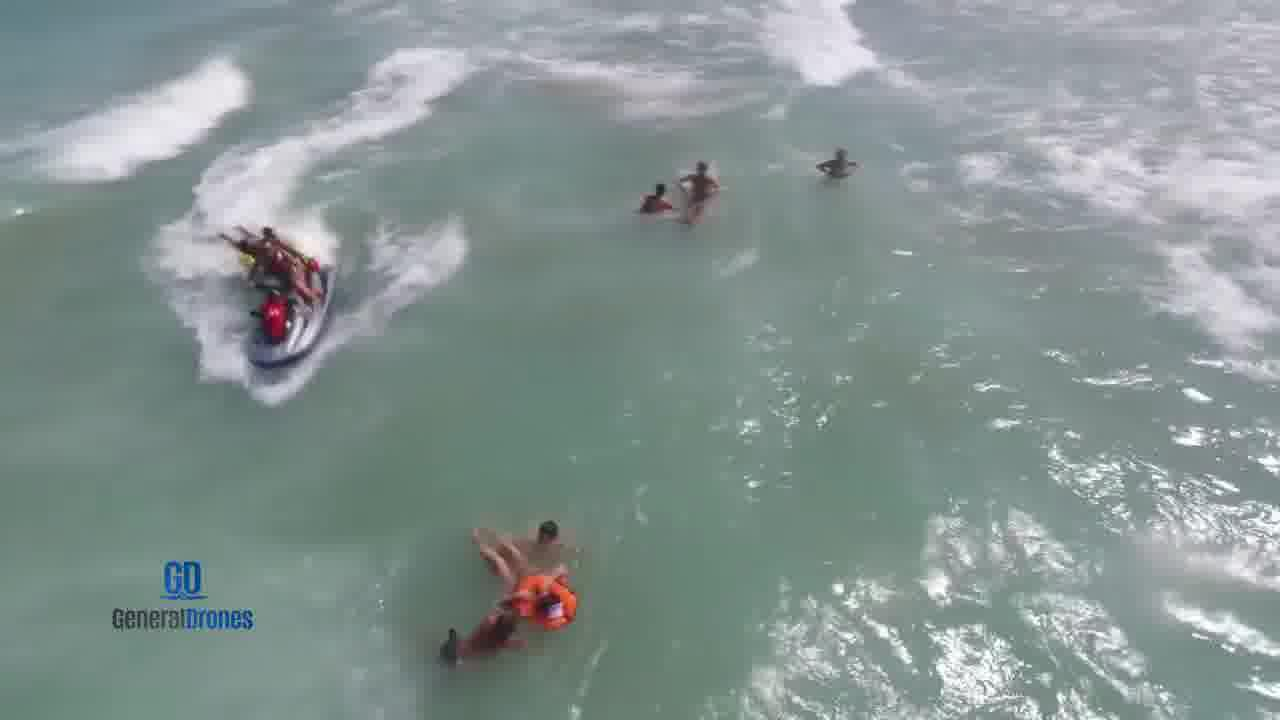human: (822, 125, 888, 207), (534, 575, 588, 640), (682, 148, 721, 211), (524, 516, 585, 552), (238, 240, 300, 275), (482, 612, 522, 666), (635, 167, 666, 223)
